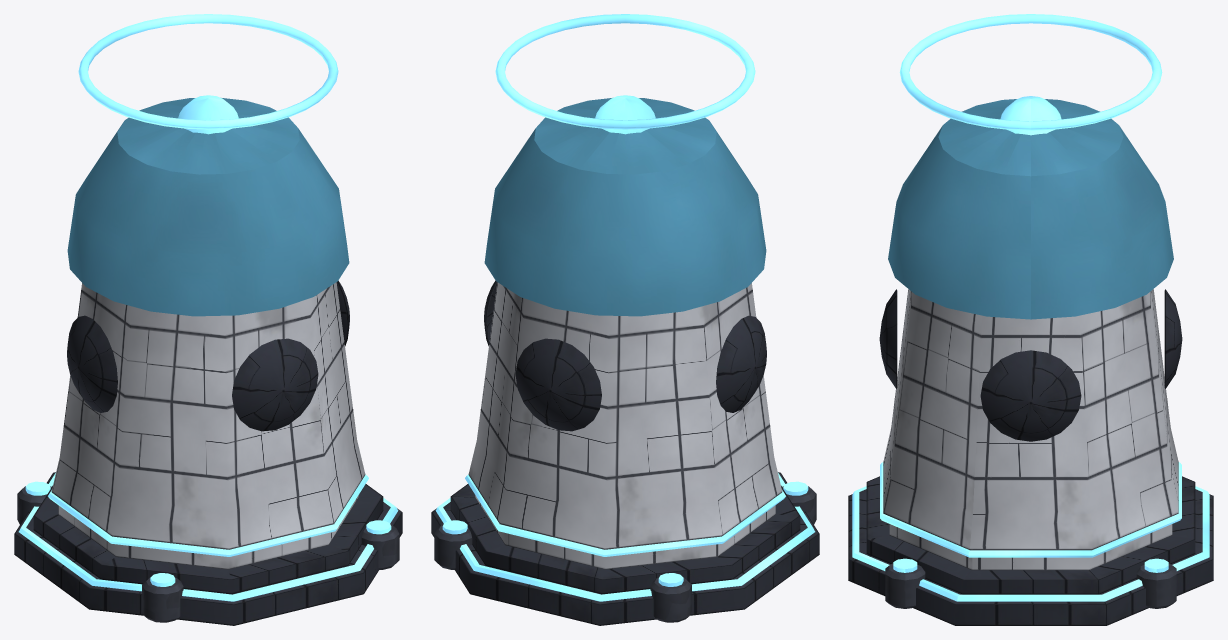
Rendered from sf_cathedral.glb.
3 renders of one model, left to right at view 1: azimuth 30°, elevation 25°; view 2: azimuth 150°, elevation 25°; view 3: azimuth 270°, elevation 25°, orthographic.
Parts seen in each view (by area): view 1: Base, Ring, Turret; view 2: Base, Ring, Turret; view 3: Base, Ring, Turret.
Boxes of the visible parts, x1,y1,x2,y2 form: Base: [14, 98, 402, 625]; Ring: [78, 14, 338, 129]; Turret: [178, 95, 238, 134]; Base: [431, 98, 819, 625]; Ring: [495, 14, 755, 129]; Turret: [595, 95, 655, 134]; Base: [848, 99, 1213, 625]; Ring: [899, 14, 1162, 130]; Turret: [1000, 96, 1061, 135].
Size of the model in its own units: 0.8684 by 1.26 by 0.8684.
Materials: 5 (5 with a texture image).
